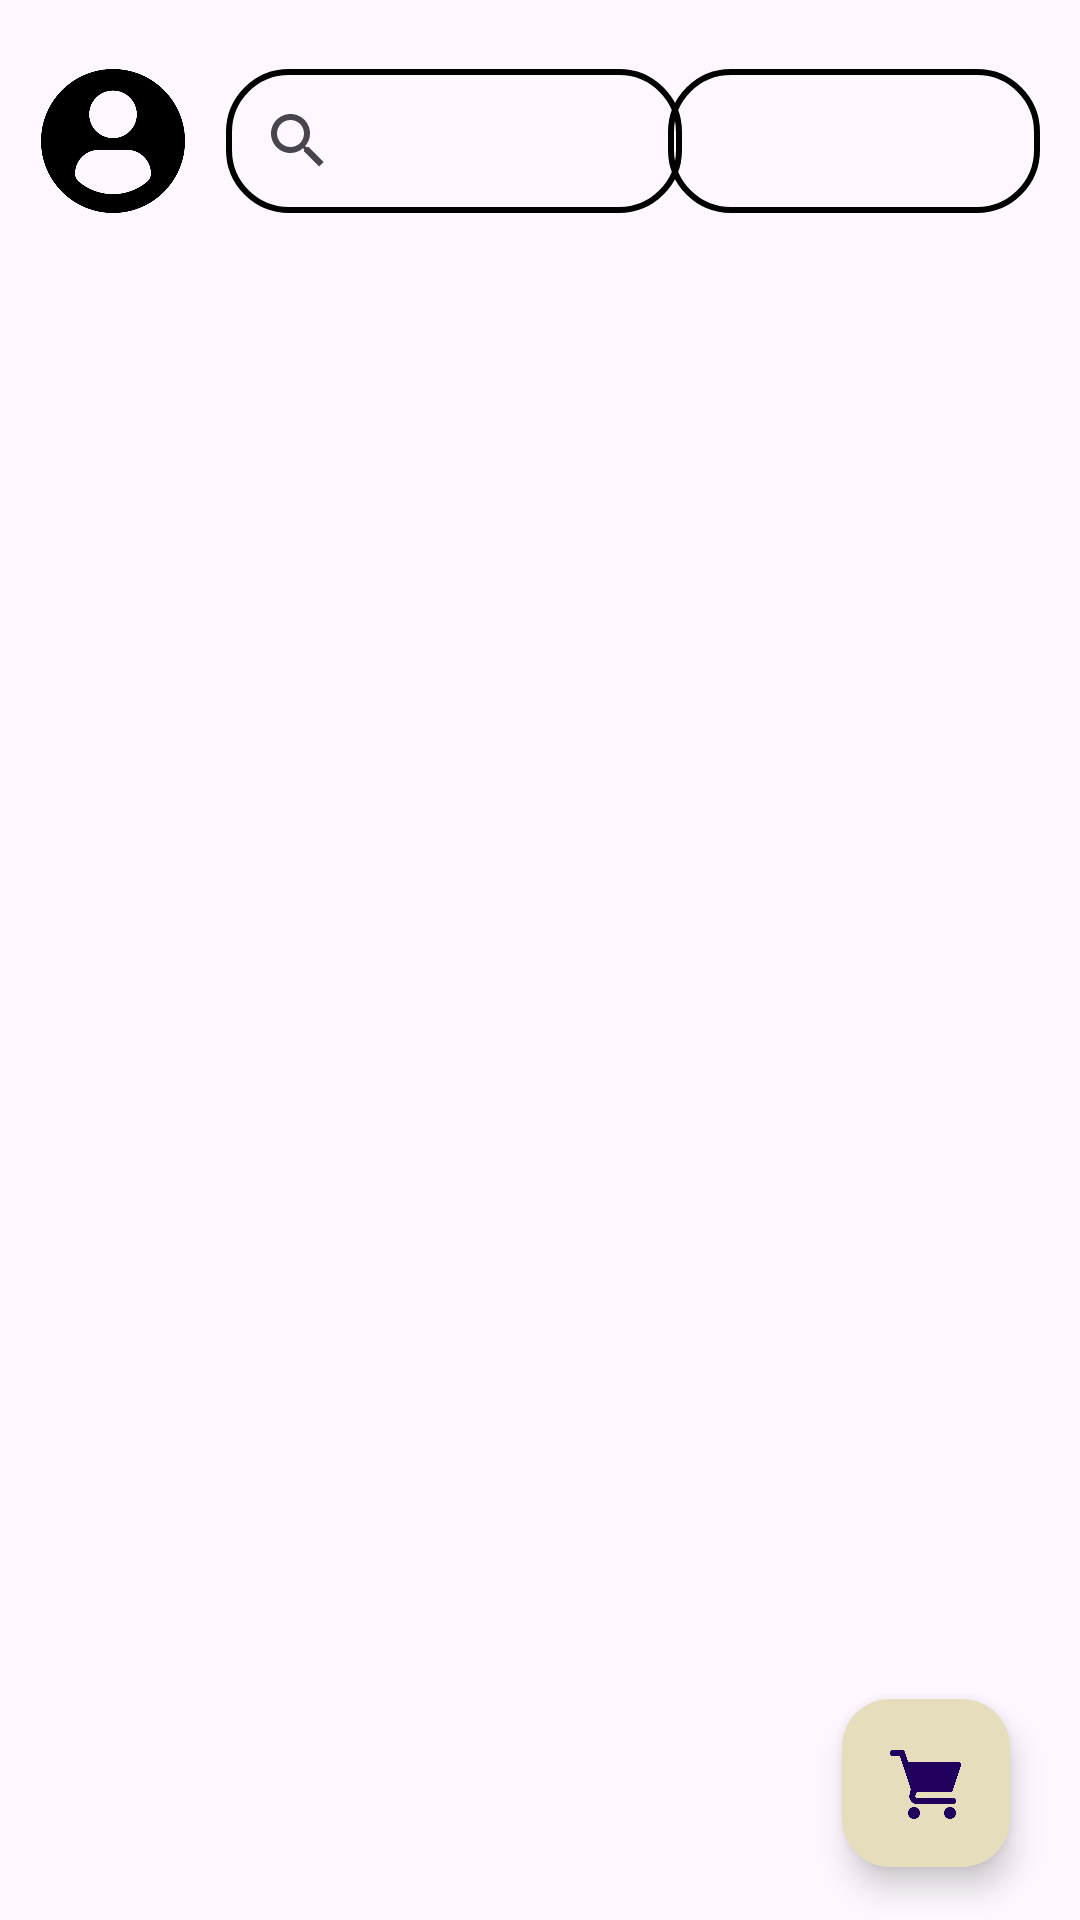

Icons on this 1080x1920 Android screen, each with the point to tap as (x,y):
profile: (113,141)
